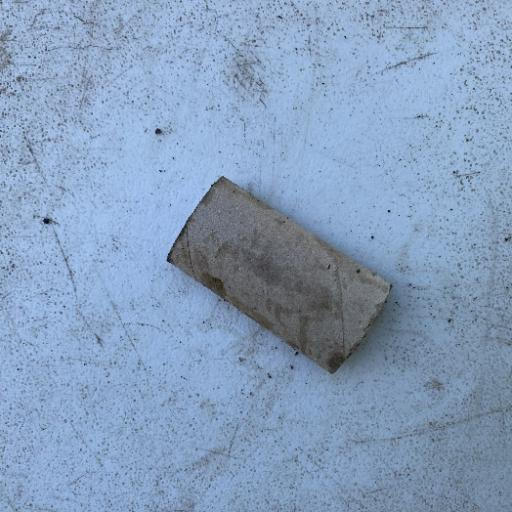Cardboard: (164, 174, 393, 376)
